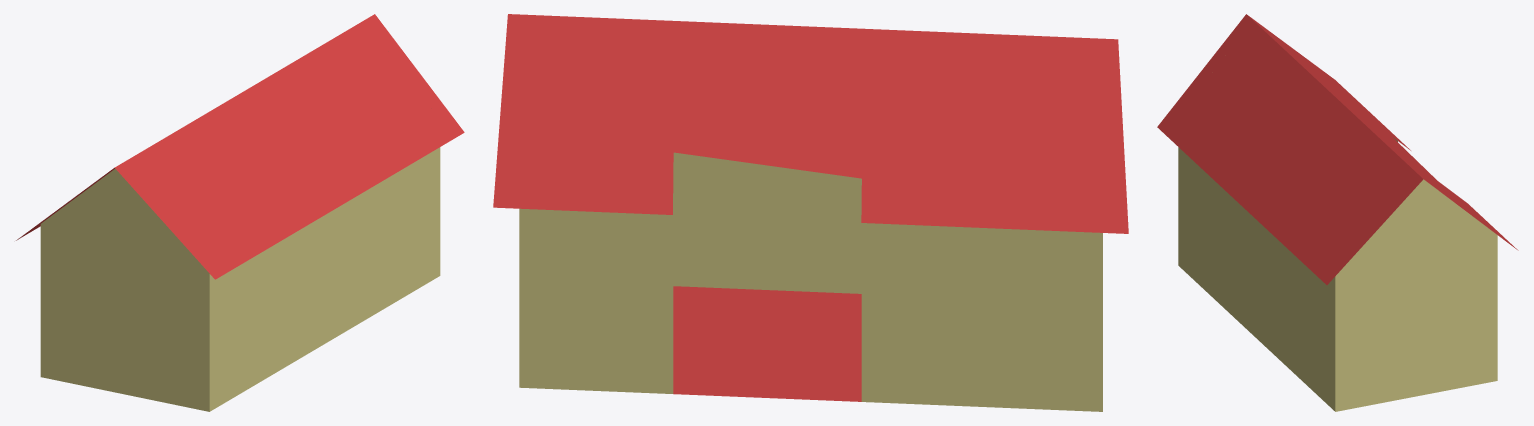
The picture shows the model from 3 angles, left to right: view 1: azimuth 30°, elevation 25°; view 2: azimuth 150°, elevation 25°; view 3: azimuth 270°, elevation 25°; orthographic projection. The views are drawn at different scales.
Size of the model in its own units: 29.39 by 21.55 by 14.66.
